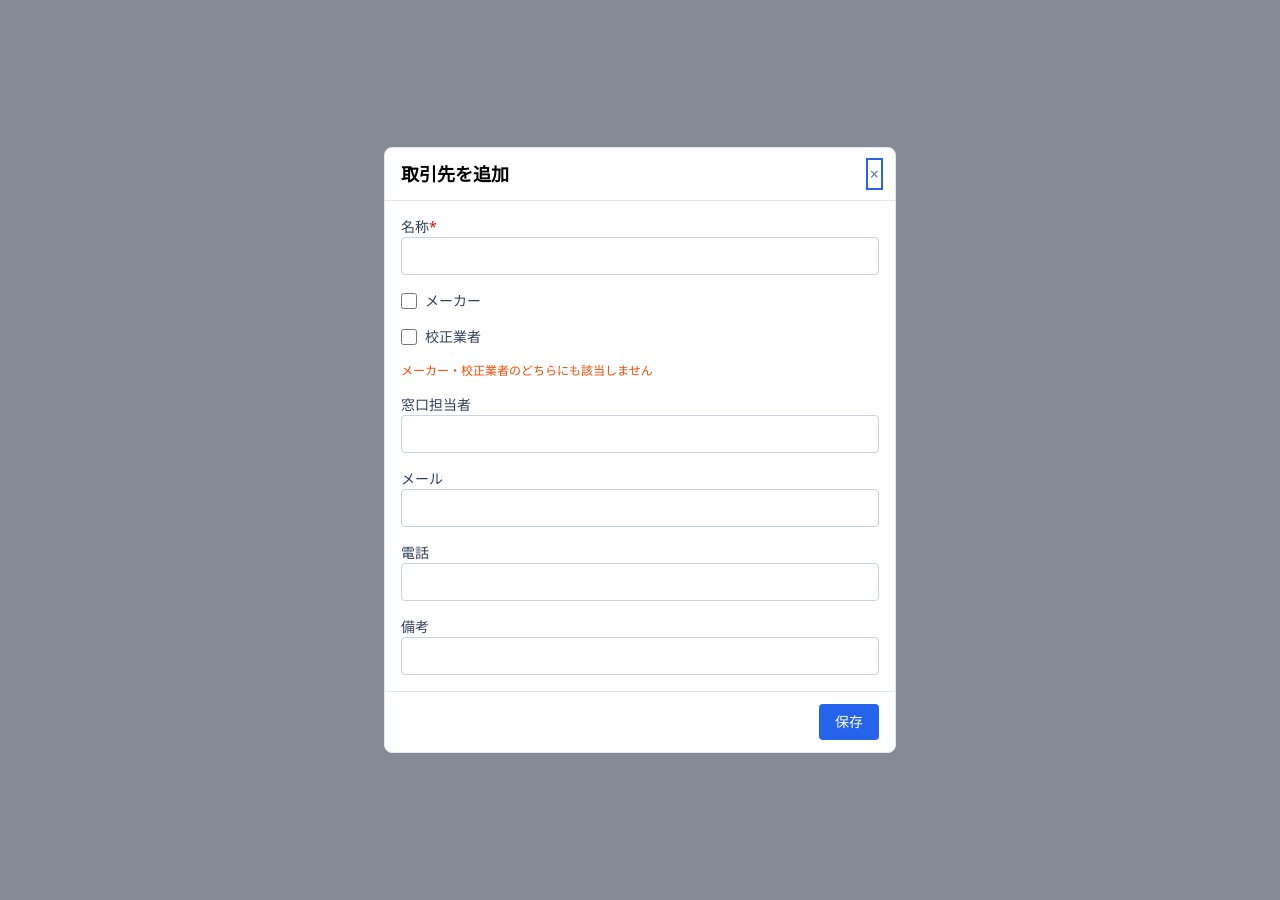
Test: VendorModal: 新規追加 › メール形式が不正だとエラー文言が表示される
Type "業者A" into the field labelled "名称" at (640, 256), box [401,237,879,275]
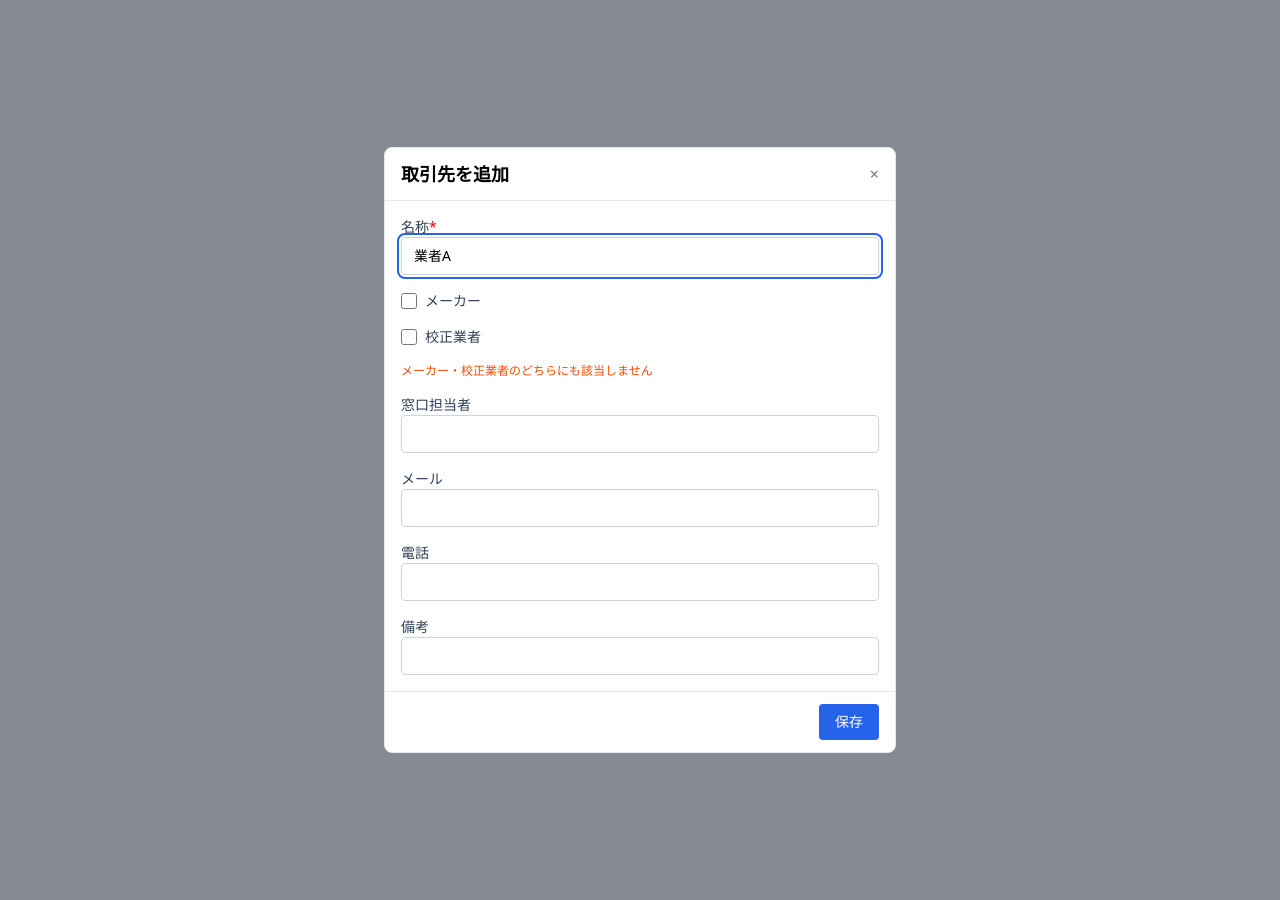
Type "not-an-email" into the field labelled "メール" at (640, 508), box [401,489,879,527]
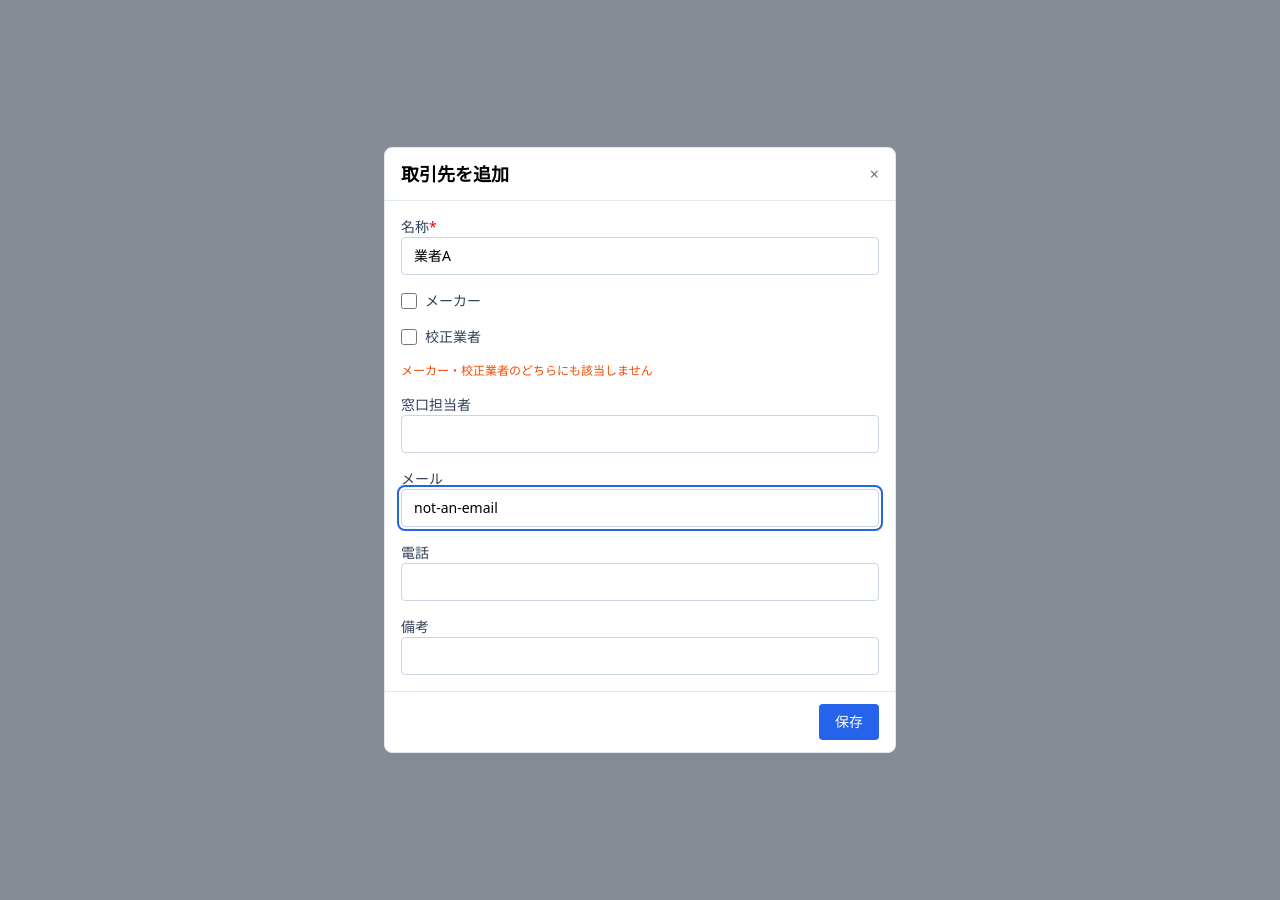
Click the button "保存" at (849, 722), box [819,704,879,740]
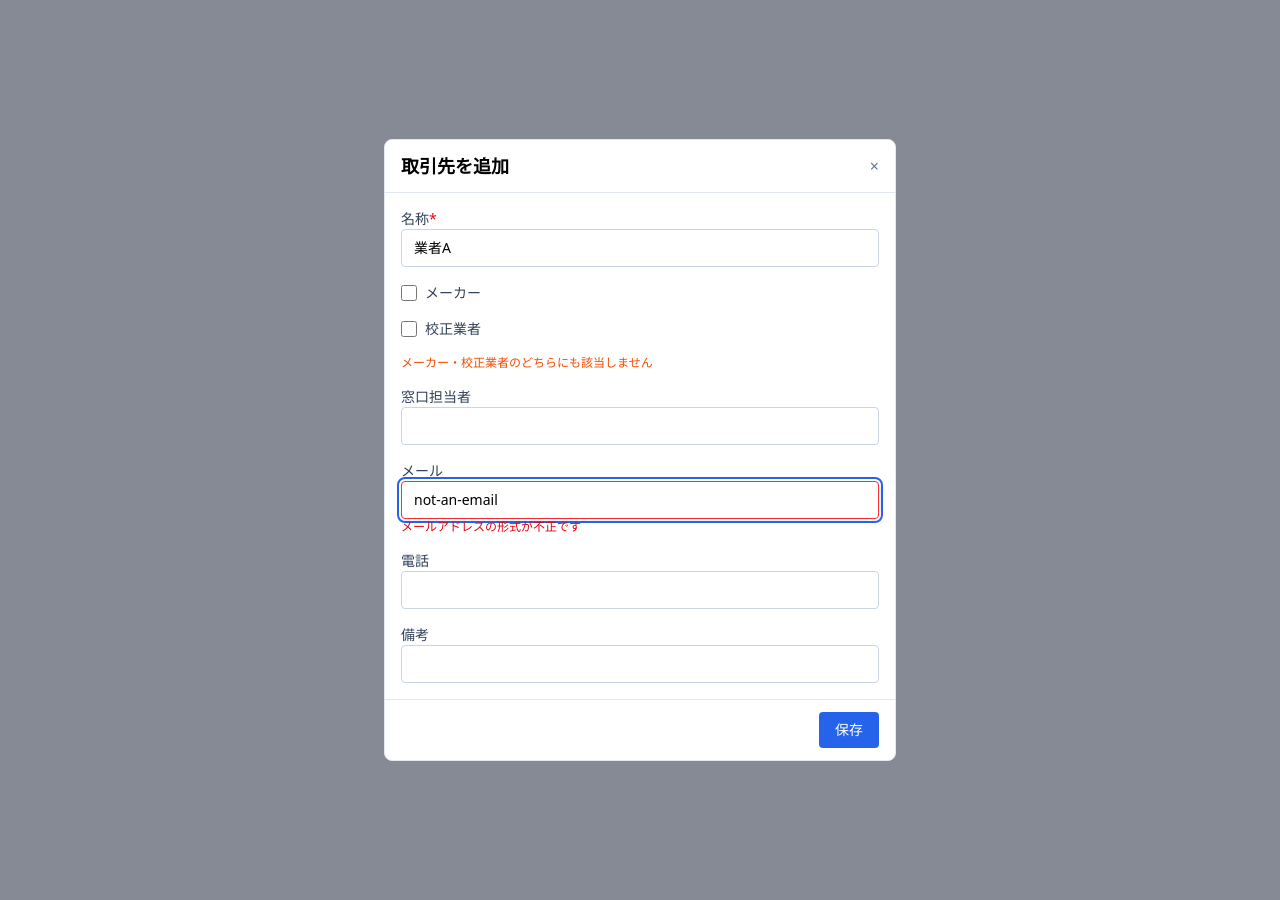
Expected: the text "メールアドレスの形式が不正です" is shown, [401,518,581,535]
